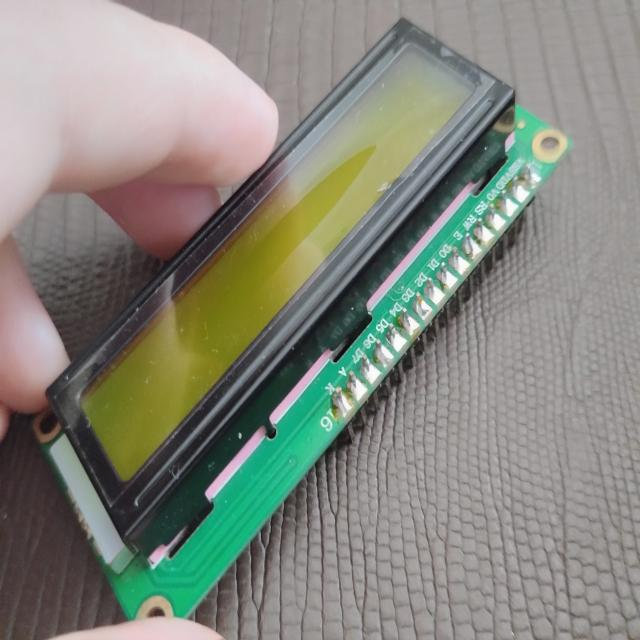lcd: (45, 14, 574, 640)
